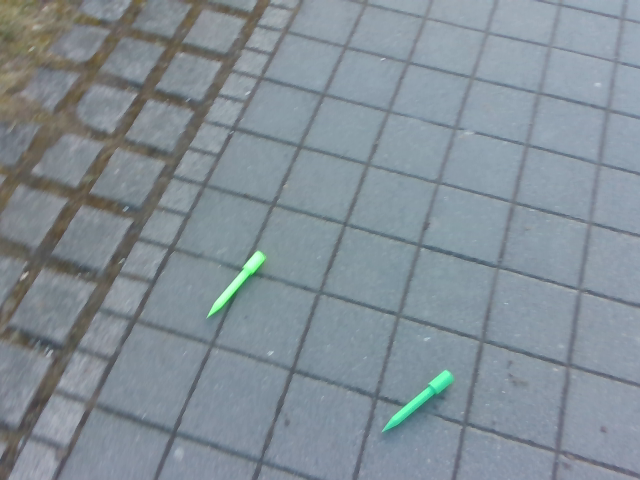Probe: (379, 366, 458, 438), (204, 243, 270, 329)
